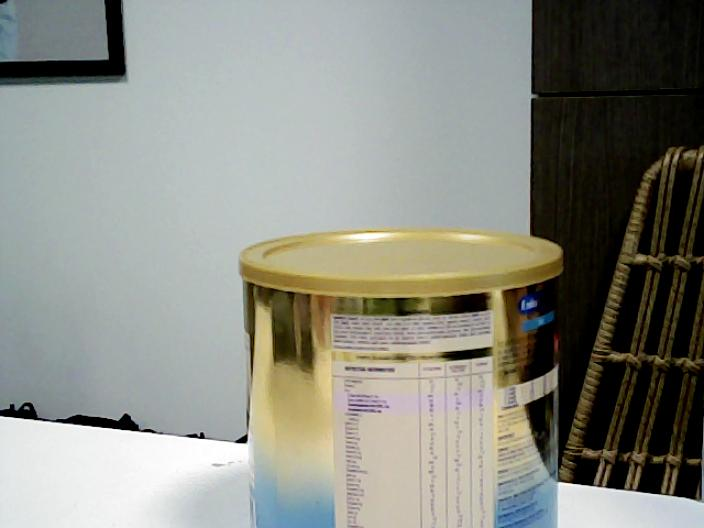Babymilk-powder-_800-899g_NonHalal_NonHealthy: (236, 230, 563, 528)
